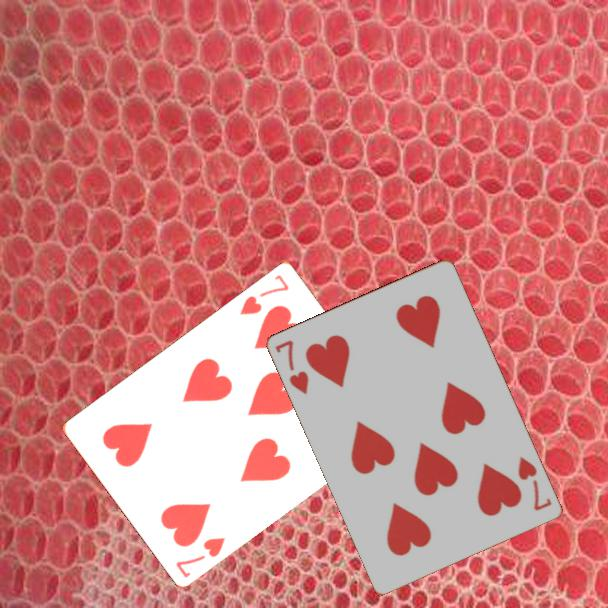h07: (236, 270, 292, 318), (172, 533, 228, 580), (272, 336, 312, 398), (515, 453, 555, 514)
